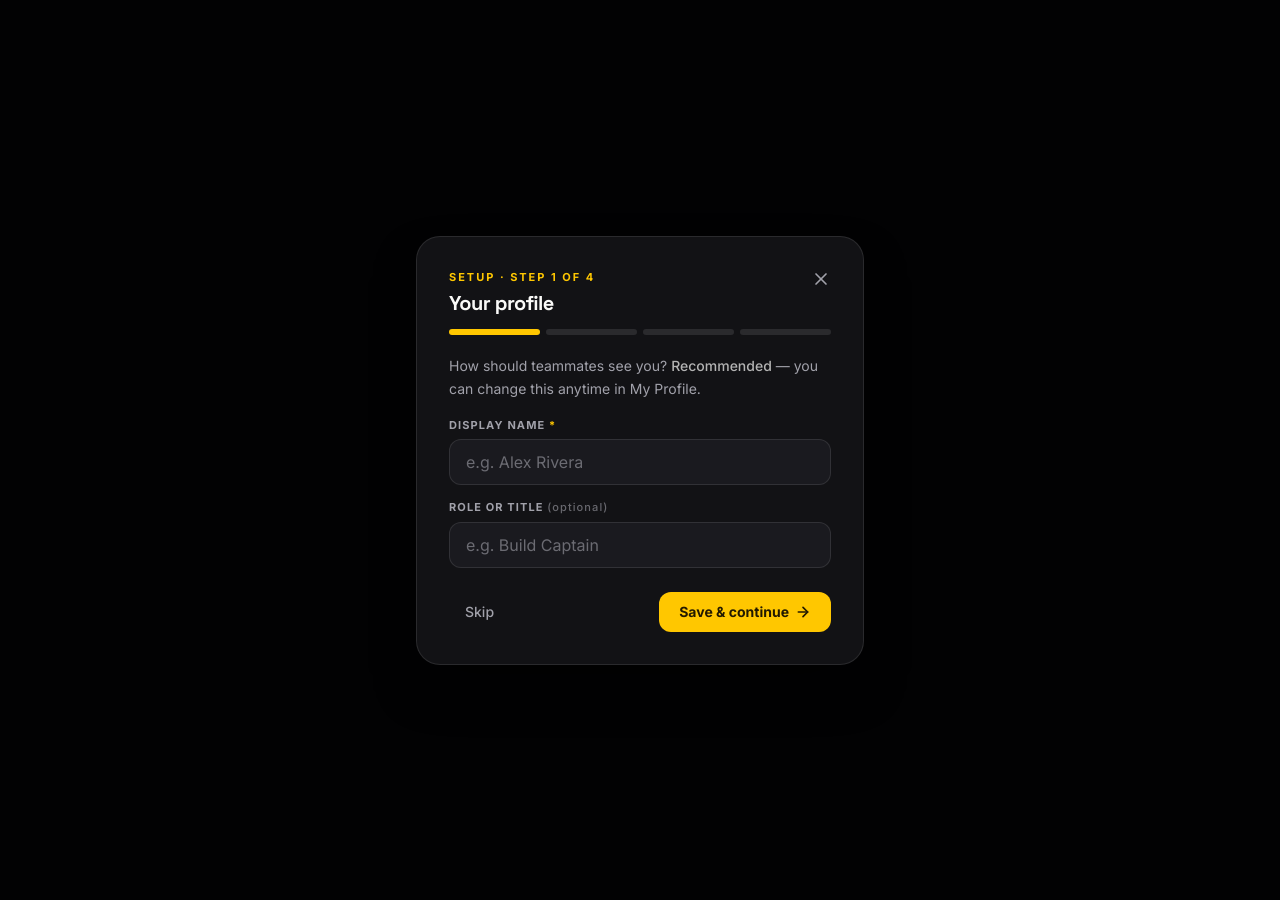
Test: SetupWizard › scenario 9 — saves the profile and marks the step done
This screenshot has width=1280, height=900.
Type "Alex Rivera" into the field labelled "Display name *" at [640, 462], box top-left (449, 439), bottom-right (831, 485)
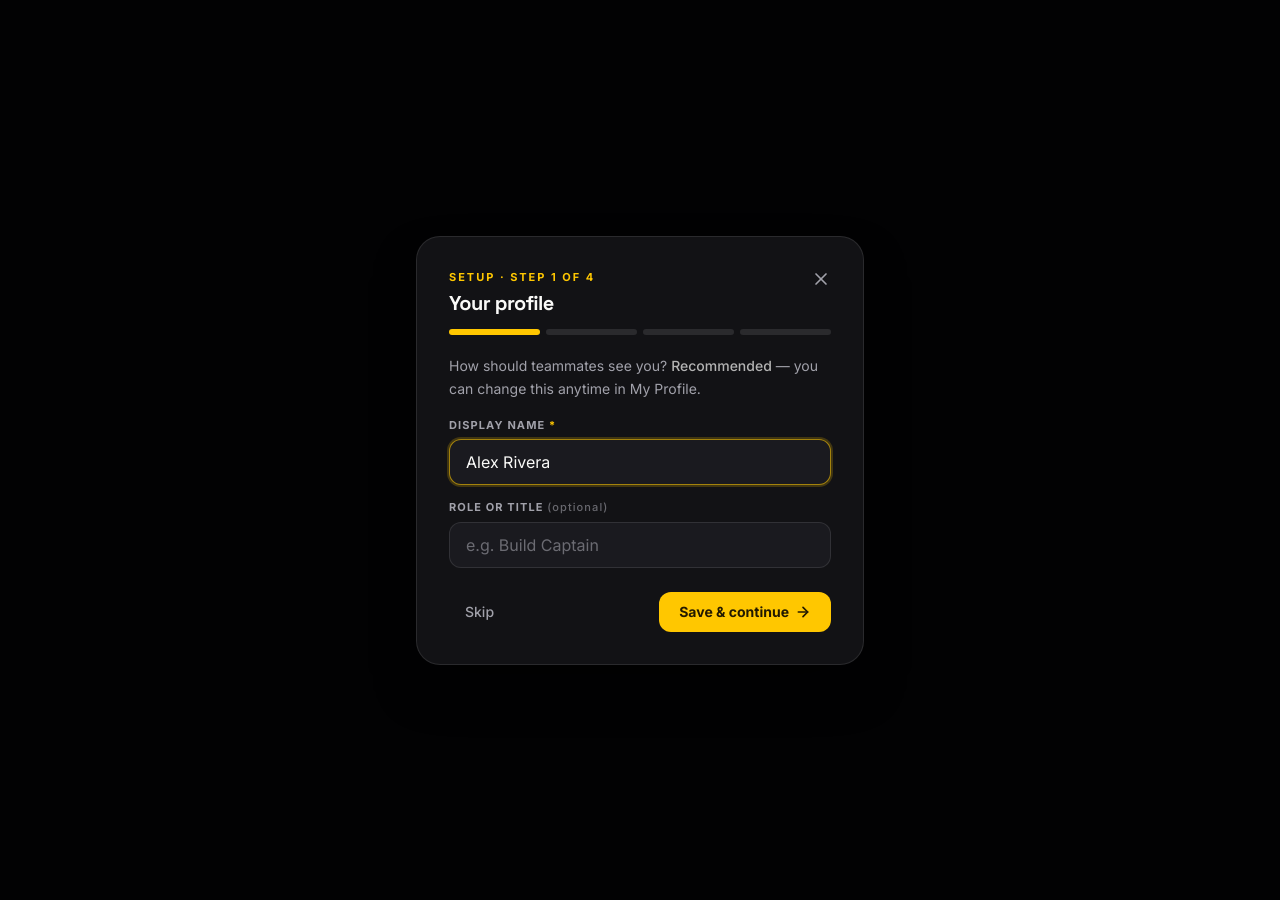
Type "Build Captain" into the field labelled "Role or title (optional)" at [640, 544], box top-left (449, 522), bottom-right (831, 568)
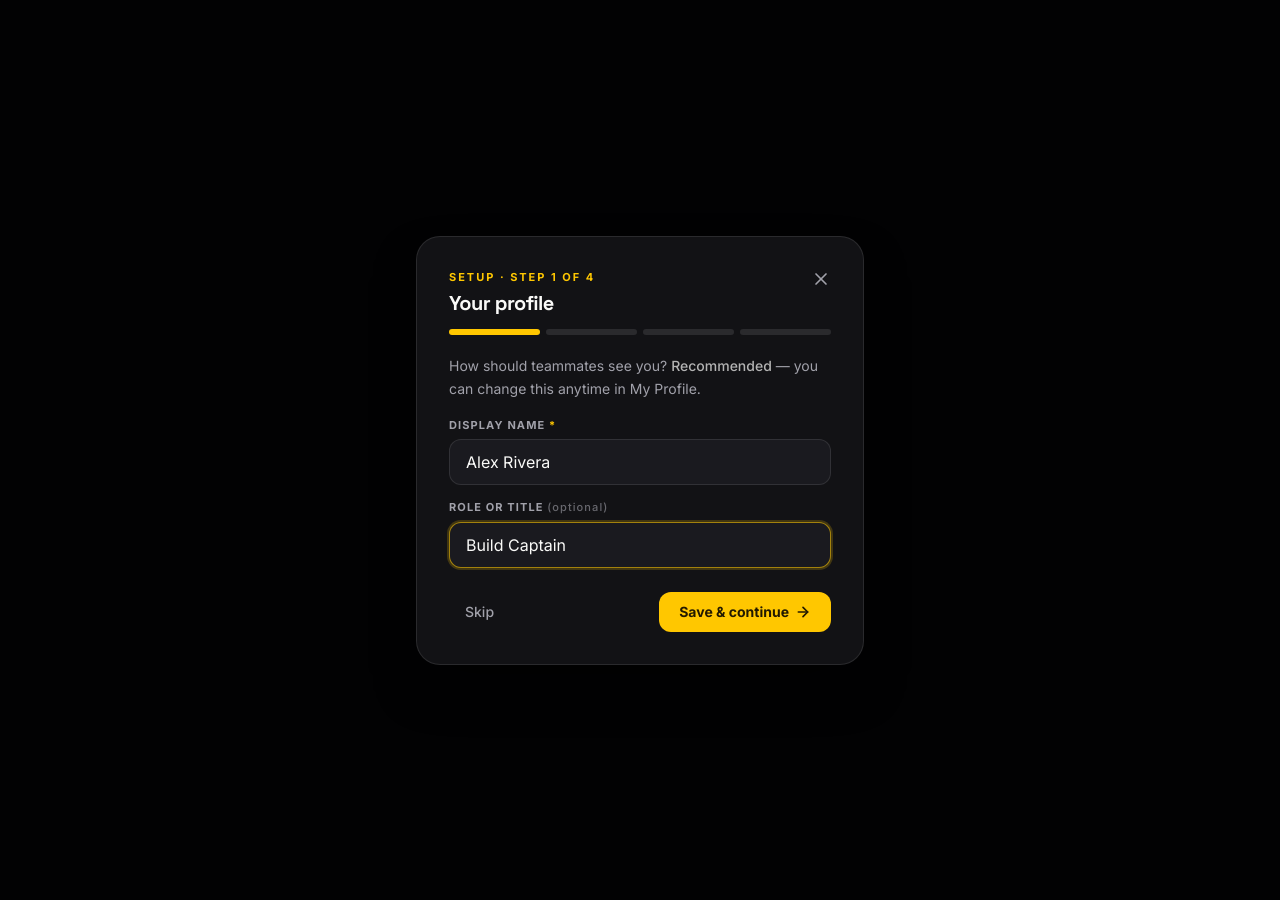
Click the button "Save & continue" at [745, 612], box top-left (659, 592), bottom-right (831, 632)
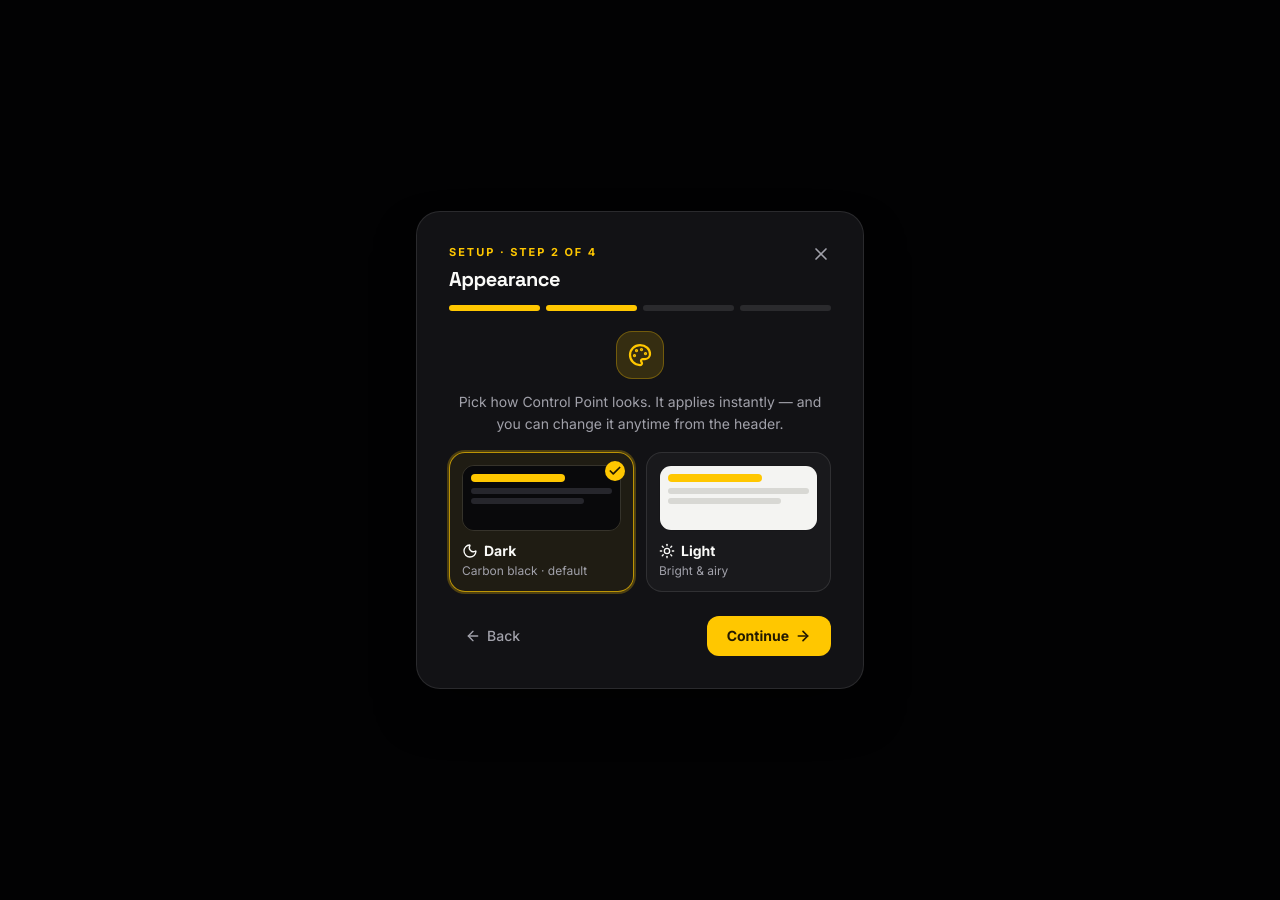
Now the element named "appearance" is shown, box top-left (449, 452), bottom-right (831, 592)
// continuing from appearance reaches the tour step
Click the button "Continue" at [769, 636], box top-left (707, 616), bottom-right (831, 656)
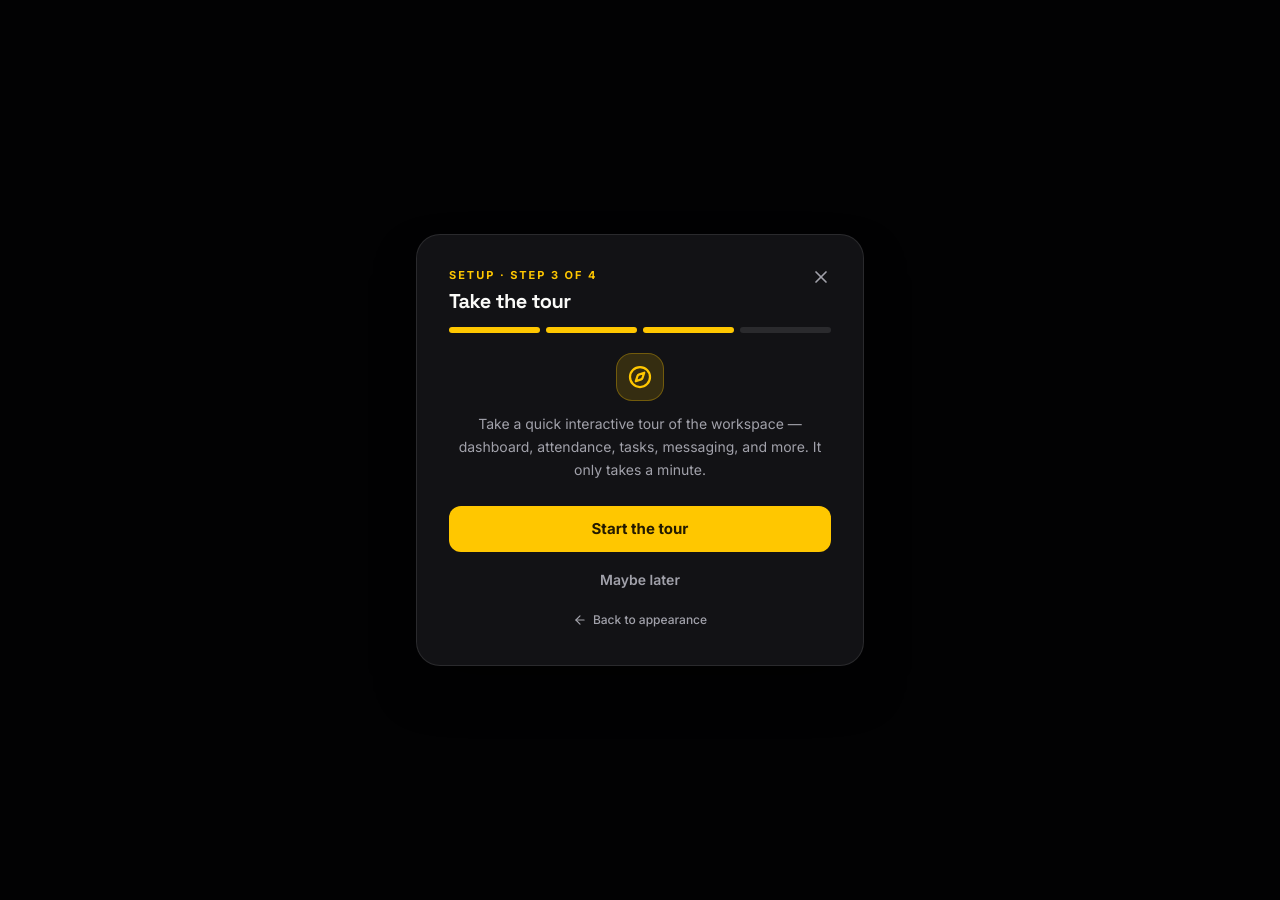
Now the button "Start the tour" is shown, box top-left (449, 506), bottom-right (831, 552)
